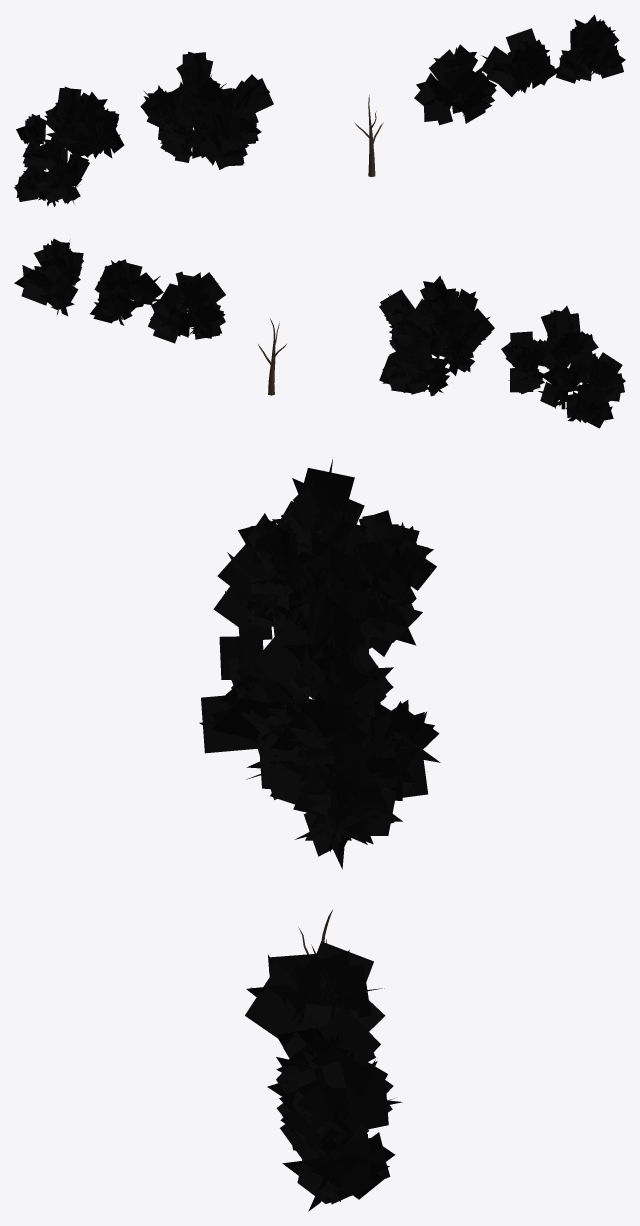
File: no_leaves_tree_six.glb
3 views of the same model, one above another, from view 1: azimuth 30°, elevation 25°; view 2: azimuth 150°, elevation 25°; view 3: azimuth 270°, elevation 25° (orthographic). The views are drawn at different scales.
Parts seen in each view (by area): view 1: leaves.003_6.005, leaves.002_3.005, leaves.005_12.005, leaves.006_15.005, leaves.007_18.005, trunk.005_13.005; view 2: leaves.003_6.005, leaves.002_3.005, leaves.005_12.005, leaves.007_18.005, leaves.006_15.005, trunk.005_13.005; view 3: leaves.003_6.005, leaves.002_3.005, leaves.007_18.005, leaves.005_12.005, leaves.006_15.005.
Boxes of the visible parts, left/top/right/bottom form: leaves.003_6.005: left=140, top=51, right=273, bottom=169; leaves.002_3.005: left=14, top=86, right=124, bottom=206; leaves.005_12.005: left=414, top=44, right=496, bottom=125; leaves.006_15.005: left=481, top=28, right=559, bottom=96; leaves.007_18.005: left=556, top=14, right=625, bottom=83; trunk.005_13.005: left=354, top=95, right=383, bottom=176; leaves.003_6.005: left=379, top=275, right=494, bottom=396; leaves.002_3.005: left=501, top=306, right=625, bottom=428; leaves.005_12.005: left=148, top=271, right=225, bottom=343; leaves.007_18.005: left=14, top=238, right=83, bottom=315; leaves.006_15.005: left=90, top=259, right=163, bottom=325; trunk.005_13.005: left=258, top=318, right=286, bottom=395; leaves.003_6.005: left=199, top=577, right=440, bottom=869; leaves.002_3.005: left=213, top=459, right=436, bottom=656; leaves.007_18.005: left=276, top=1061, right=395, bottom=1211; leaves.005_12.005: left=245, top=941, right=385, bottom=1072; leaves.006_15.005: left=267, top=998, right=402, bottom=1129.
Size of the model in its own units: 473 by 122 by 84.31.
2 materials, 2 textured.
